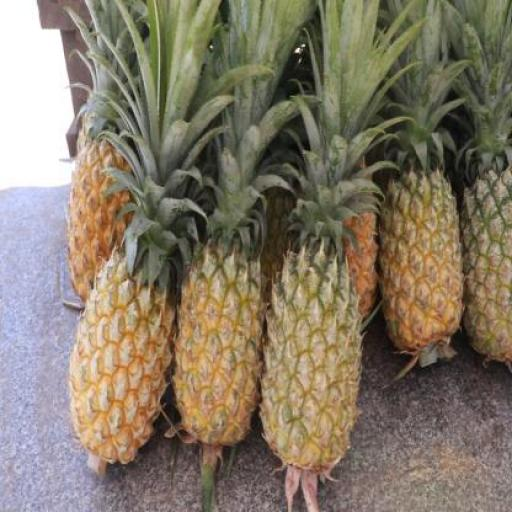------------------------------: (262, 247, 362, 464)
Pineapple - v8 v1: (68, 247, 174, 458), (171, 254, 263, 452), (379, 172, 464, 352), (66, 138, 138, 317)
